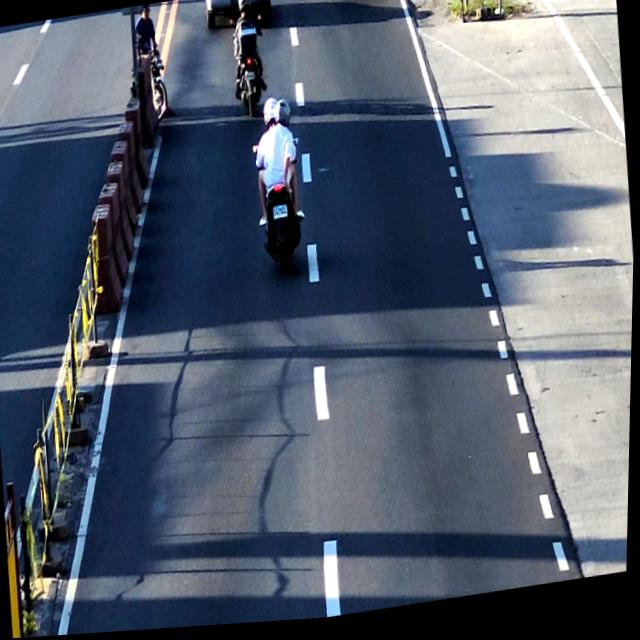License-Plate: (273, 208, 292, 224)
Motorcycle: (253, 95, 308, 273), (223, 0, 270, 114)
